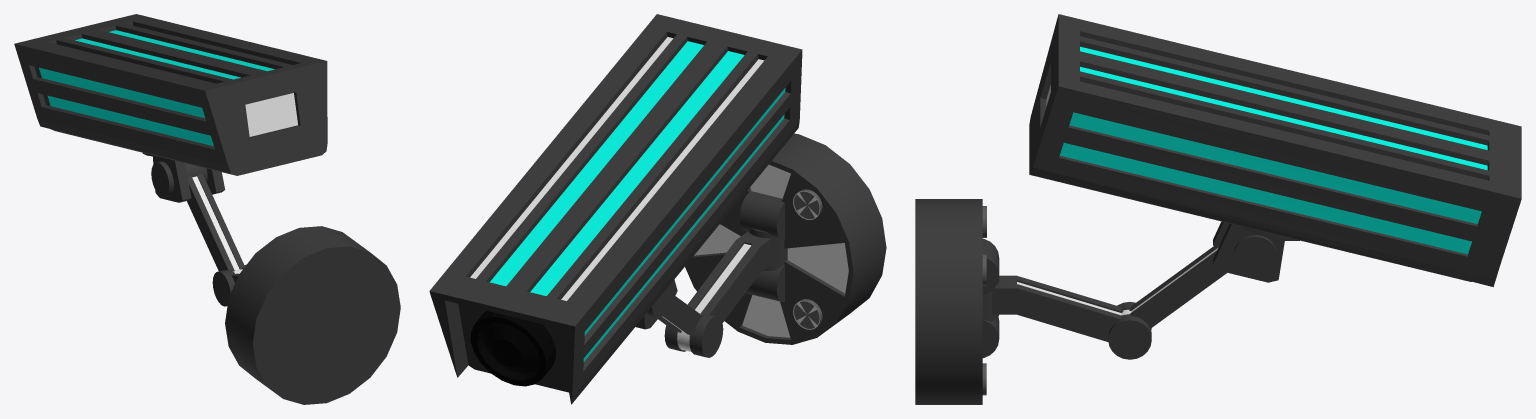
The model's file is Camera model FINAL.fbx.
3 renders of one model, left to right at view 1: azimuth 30°, elevation 25°; view 2: azimuth 150°, elevation 25°; view 3: azimuth 270°, elevation 25°, orthographic. The views are drawn at different scales.
Parts seen in each view (by area): view 1: Camera_Head, Camera_Arm; view 2: Camera_Head, Camera_Arm; view 3: Camera_Head, Camera_Arm.
Boxes of the visible parts, <box> form: Camera_Head: <box>14,14,327,175</box>; Camera_Arm: <box>142,153,400,404</box>; Camera_Head: <box>429,14,802,404</box>; Camera_Arm: <box>635,133,886,357</box>; Camera_Head: <box>1029,14,1521,287</box>; Camera_Arm: <box>915,199,1299,404</box>.
Bounding box in the file's own units: 0.2591 × 0.4754 × 0.7574.
